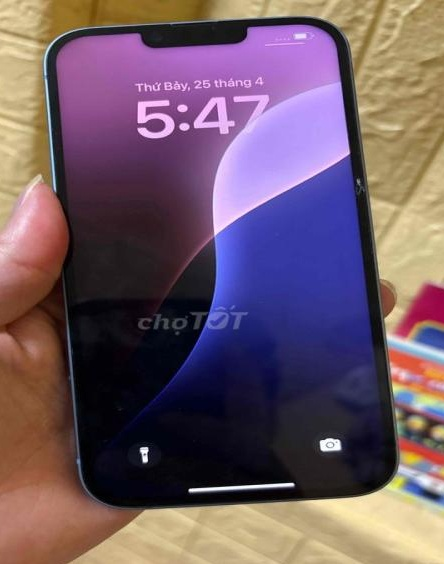scratch: (354, 176, 368, 197)
